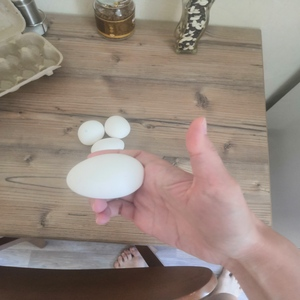white egg: (65, 153, 145, 200), (77, 119, 106, 146), (104, 115, 131, 140)
